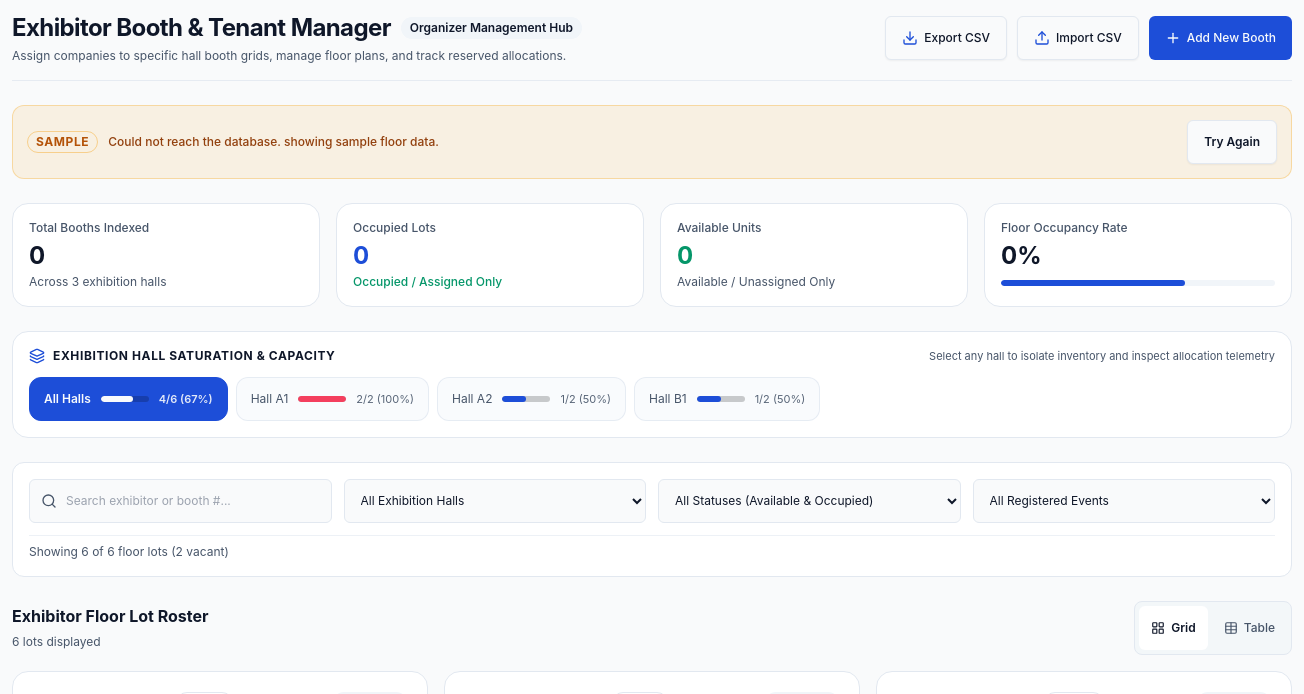
Test case: Booth manager data truth › shows a fetch-error banner with Retry when the API is unreachable
Check: the text "Could not reach the database. showing sample floor data." is shown, box [108,134,439,150]
Click the button "Try Again" at (1232, 142), box [1187,120,1277,164]
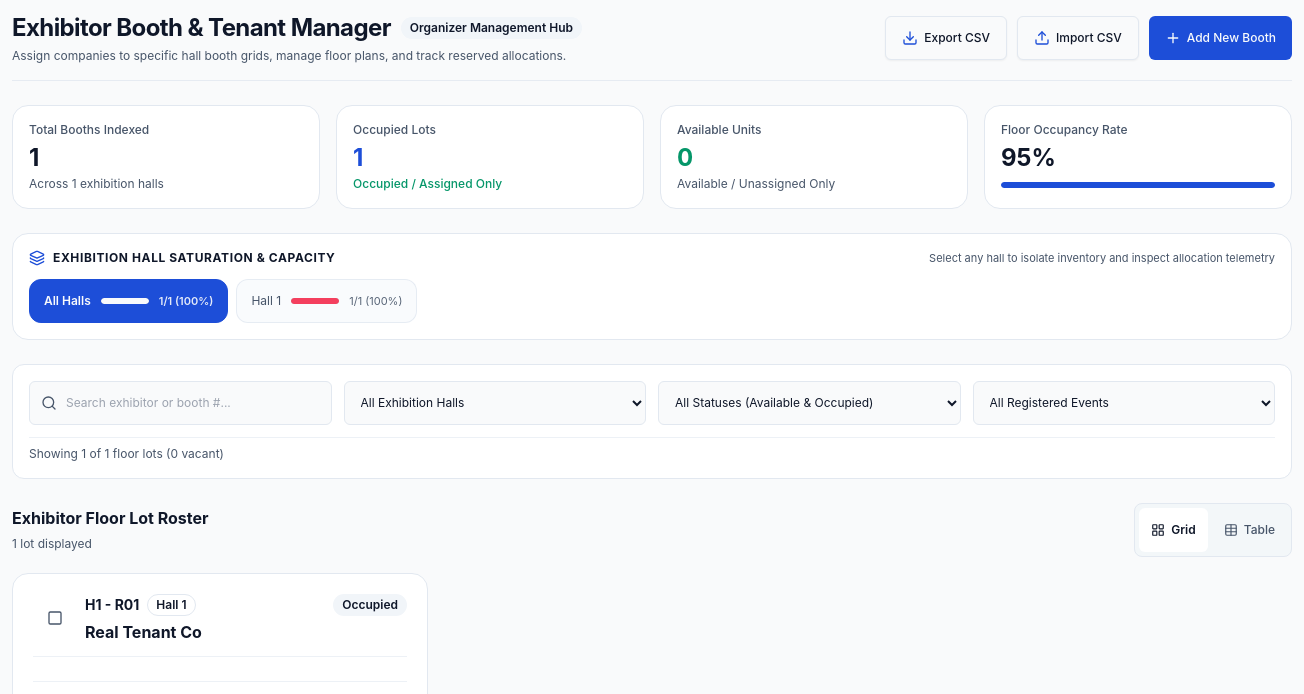
Check: the heading "Real Tenant Co" is shown, box [85,620,202,644]
Check: the text "Sample" is gone
Check: the text "sample floor data" is gone
